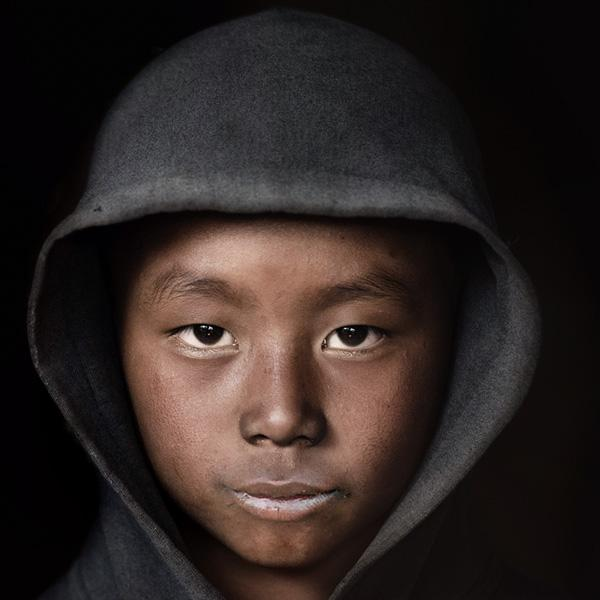Eyes: (157, 309, 244, 362), (314, 311, 398, 362)
